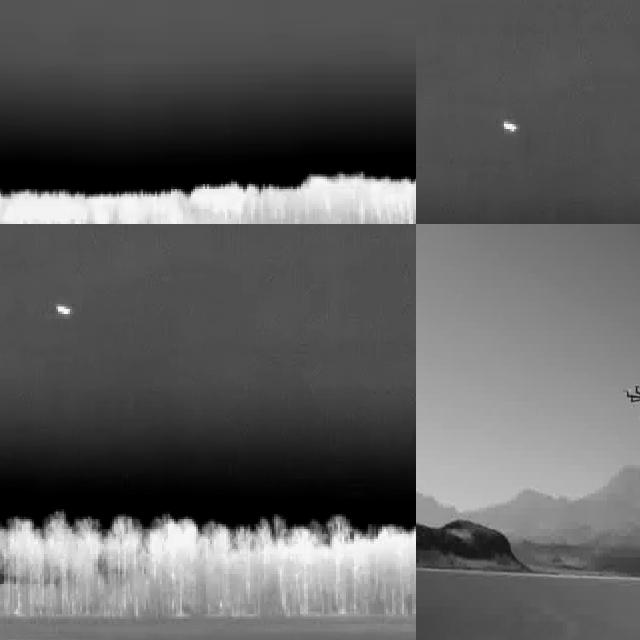1: (490, 114, 526, 144), (44, 298, 80, 328)
drone: (627, 376, 640, 427)
